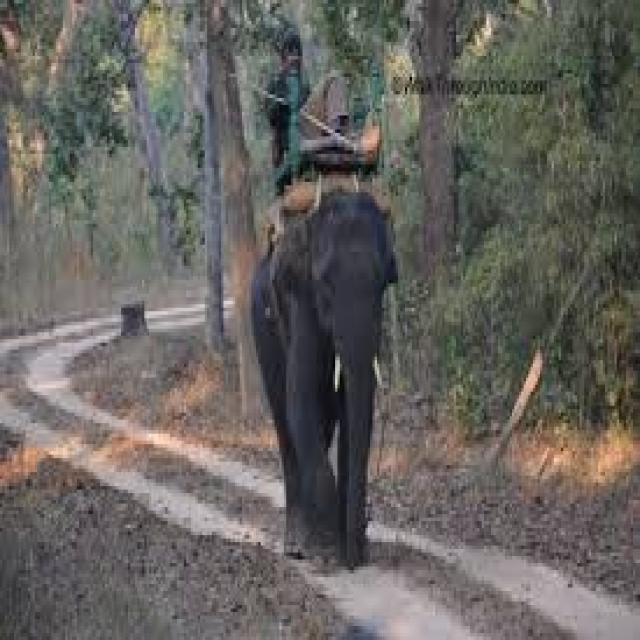Elephant: (245, 170, 393, 571)
